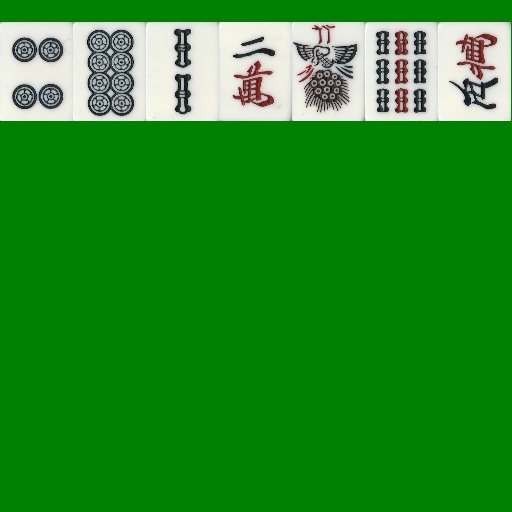1s: (292, 22, 365, 121)
2m: (219, 22, 292, 121)
2s: (146, 22, 219, 121)
4p: (0, 22, 73, 121)
5m: (438, 22, 511, 121)
8p: (73, 22, 146, 121)
9s: (365, 22, 438, 121)
